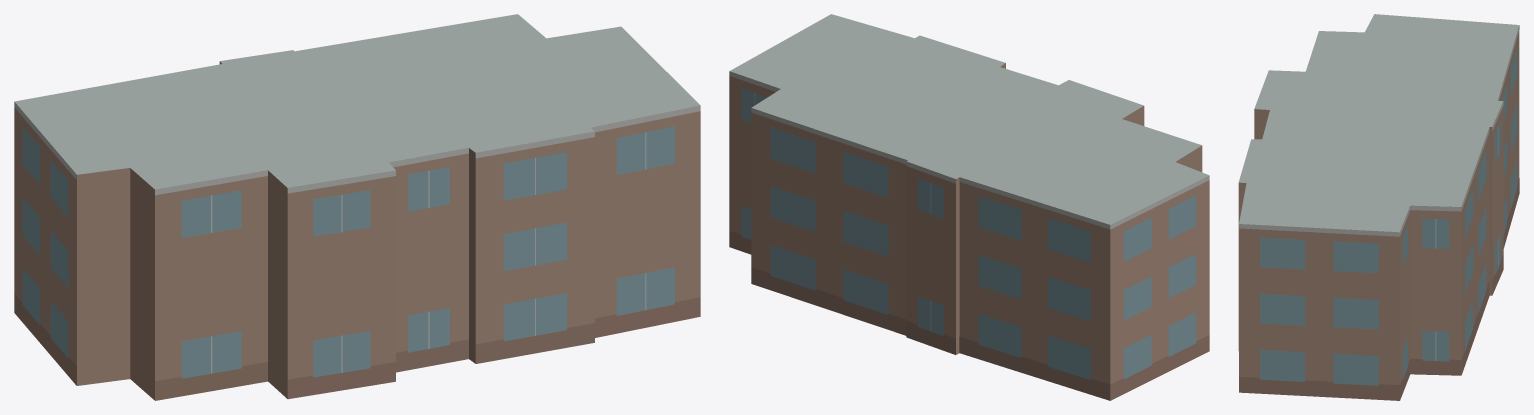
The model's file is survey-upis-32595795.glb.
3 views of the same model, side by side, from view 1: azimuth 30°, elevation 25°; view 2: azimuth 150°, elevation 25°; view 3: azimuth 270°, elevation 25° (orthographic). The views are drawn at different scales.
Parts seen in each view (by area): view 1: survey-upis-32595795.tmp; view 2: survey-upis-32595795.tmp; view 3: survey-upis-32595795.tmp.
Boxes of the visible parts, <box> form: survey-upis-32595795.tmp: <box>14,14,700,400</box>; survey-upis-32595795.tmp: <box>729,14,1209,400</box>; survey-upis-32595795.tmp: <box>1238,14,1519,400</box>.
Bounding box in the file's own units: 25.41 × 9.15 × 13.82.
